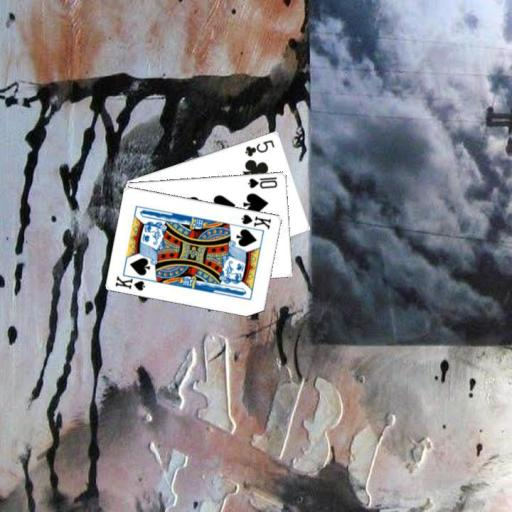10S: (245, 174, 279, 189)
5C: (242, 136, 276, 158)
KS: (112, 270, 151, 292), (238, 211, 273, 231)
